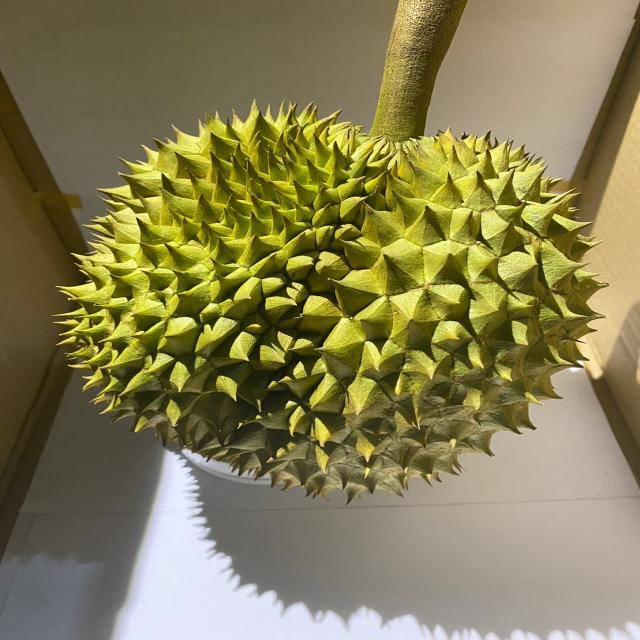immature: (55, 95, 610, 513)
